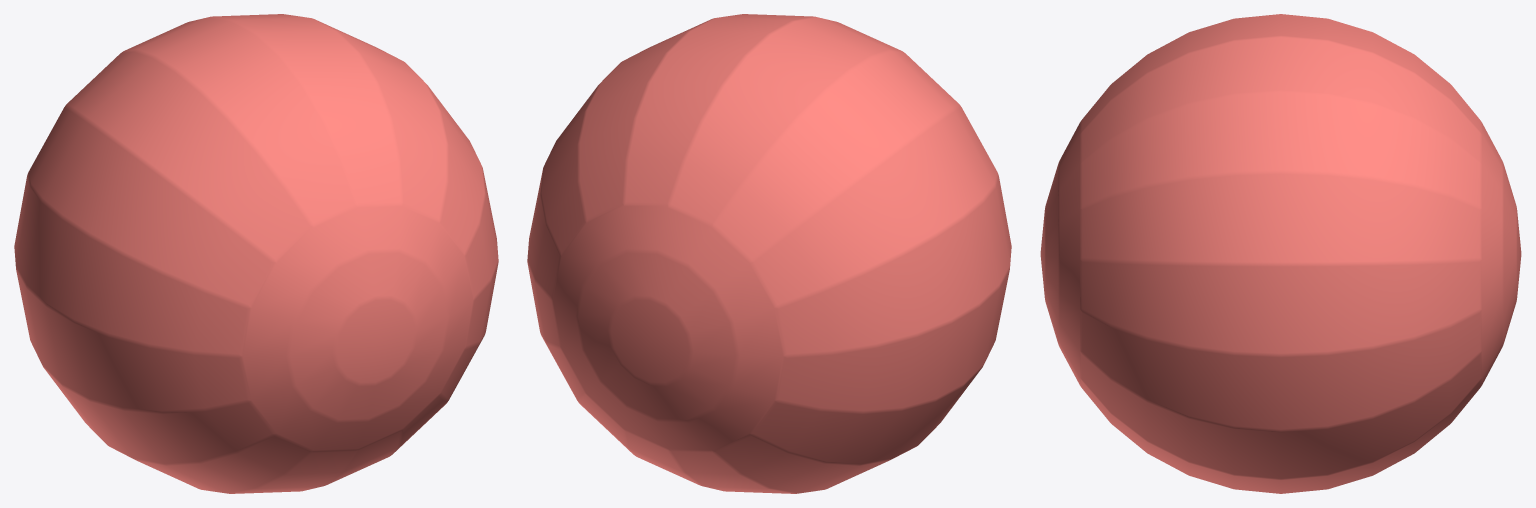
Rendered from Fire Ball.fbx.
3 views of the same model, side by side, from view 1: azimuth 30°, elevation 25°; view 2: azimuth 150°, elevation 25°; view 3: azimuth 270°, elevation 25° (orthographic).
Parts seen in each view (by area): view 1: Fire Ball; view 2: Fire Ball; view 3: Fire Ball.
Part boxes in pixels (x1,y1,x2,y2): Fire Ball: (14,14,498,493); Fire Ball: (527,14,1011,493); Fire Ball: (1040,14,1521,493).
Bounding box in the file's own units: 129 × 129 × 129.
